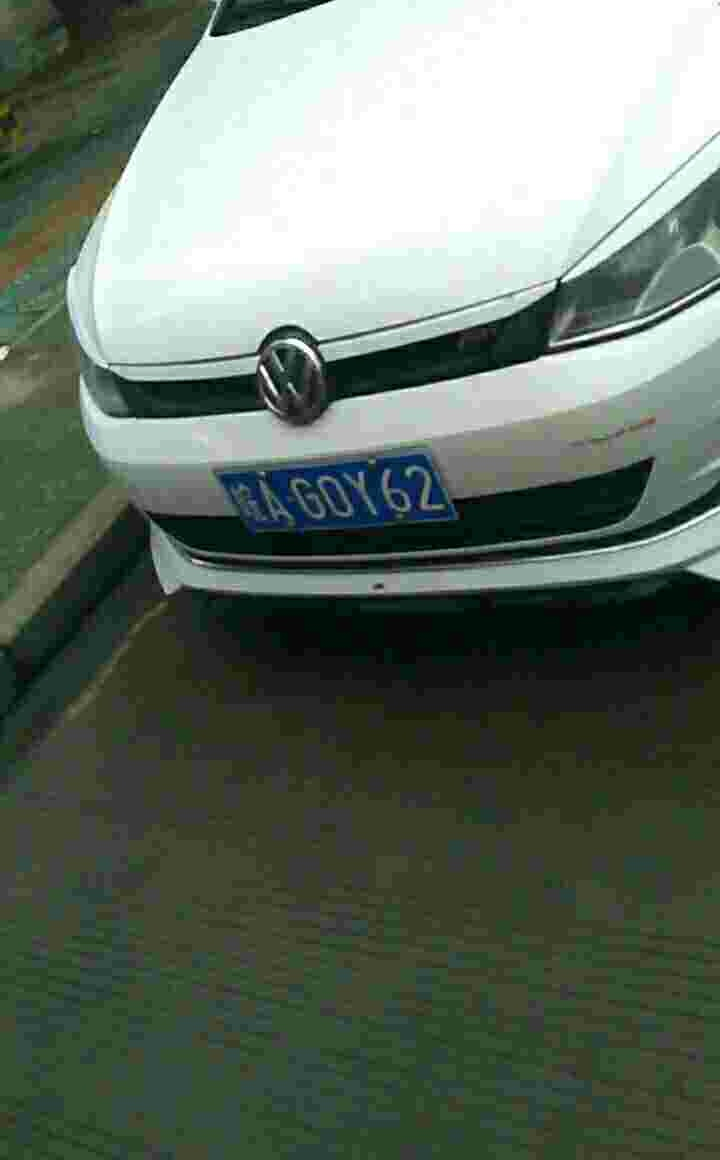license_plate: (220, 461, 461, 533)
